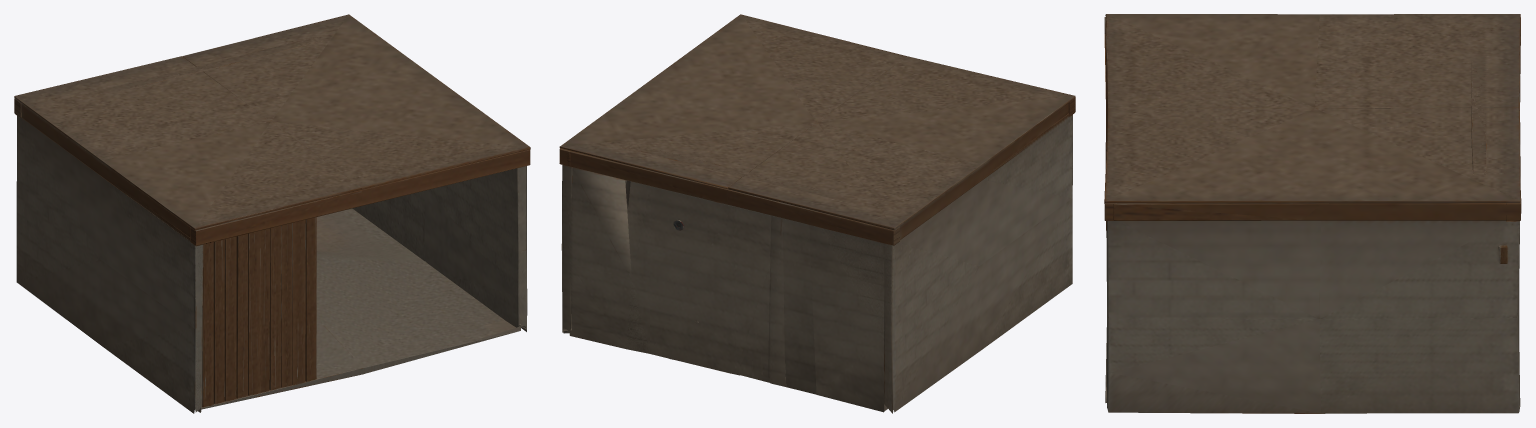
Rendered from muhafiz_odasi.glb.
3 renders of one model, left to right at view 1: azimuth 30°, elevation 25°; view 2: azimuth 150°, elevation 25°; view 3: azimuth 270°, elevation 25°, orthographic. The views are drawn at different scales.
Size of the model in its own units: 0.9497 by 0.5049 by 0.8892.
Materials: 1 (1 with a texture image).
